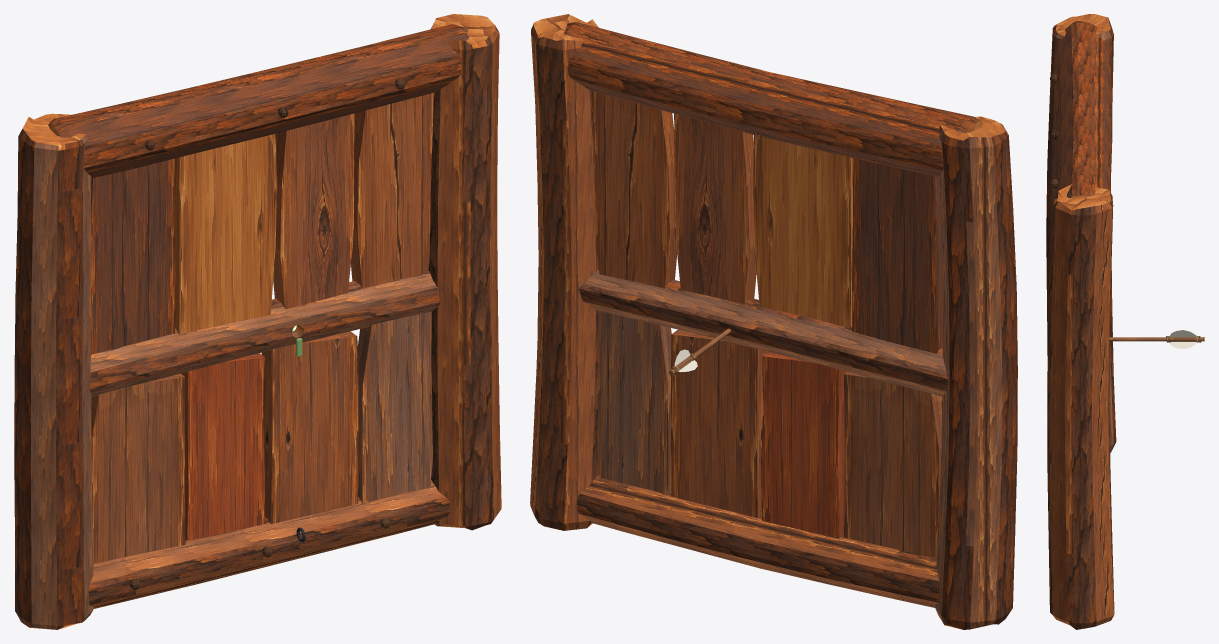
Rendered from trap_tripwire_wall.glb.
3 views of the same model, side by side, from view 1: azimuth 30°, elevation 25°; view 2: azimuth 150°, elevation 25°; view 3: azimuth 270°, elevation 25° (orthographic). The views are drawn at different scales.
Visible parts, largest first — view 1: frame; view 2: frame, bolt; view 3: frame, bolt.
Part boxes in pixels (left/top/right/bottom): frame: left=14, top=14, right=501, bottom=629; frame: left=530, top=14, right=1017, bottom=629; bolt: left=669, top=328, right=731, bottom=375; frame: left=1046, top=14, right=1116, bottom=629; bolt: left=1109, top=330, right=1204, bottom=348.
Bounding box in the file's own units: 1.99 × 1.98 × 0.6652.
29 materials, 24 textured.
